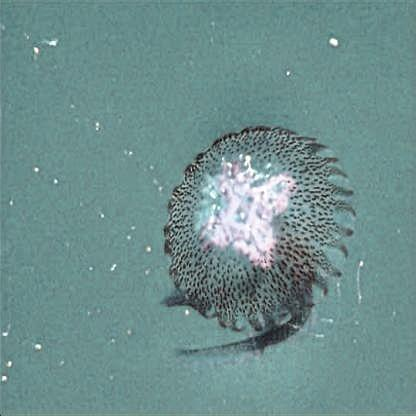Mosaic: (160, 127, 354, 365)
